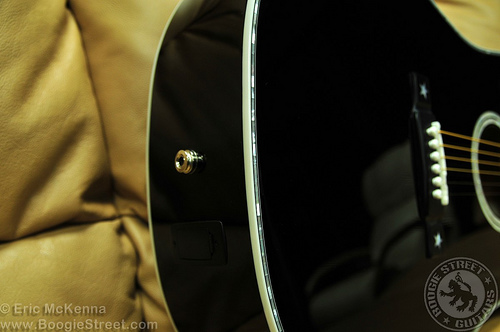guitar: (142, 1, 500, 332)
